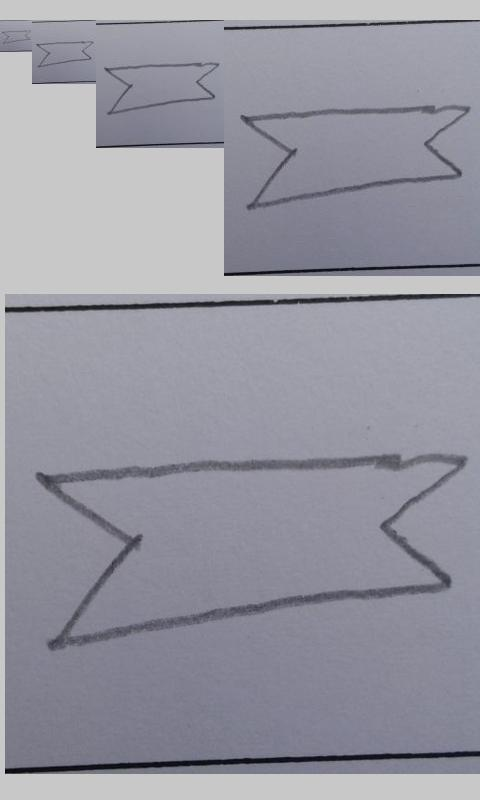edit_text: (34, 452, 469, 648), (242, 103, 471, 210), (104, 62, 221, 115), (36, 41, 93, 67), (2, 30, 31, 44)
